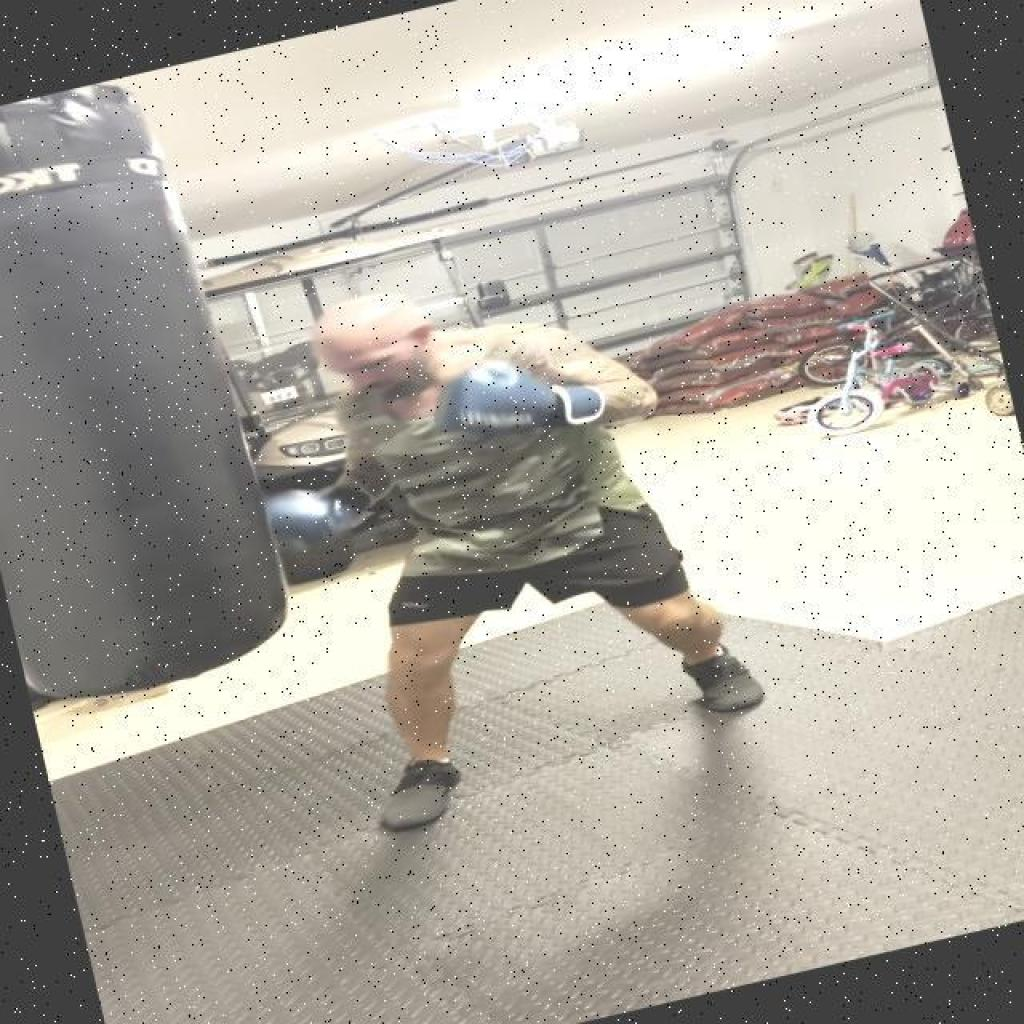bag: (0, 72, 301, 722)
uppercut: (158, 219, 669, 595)
